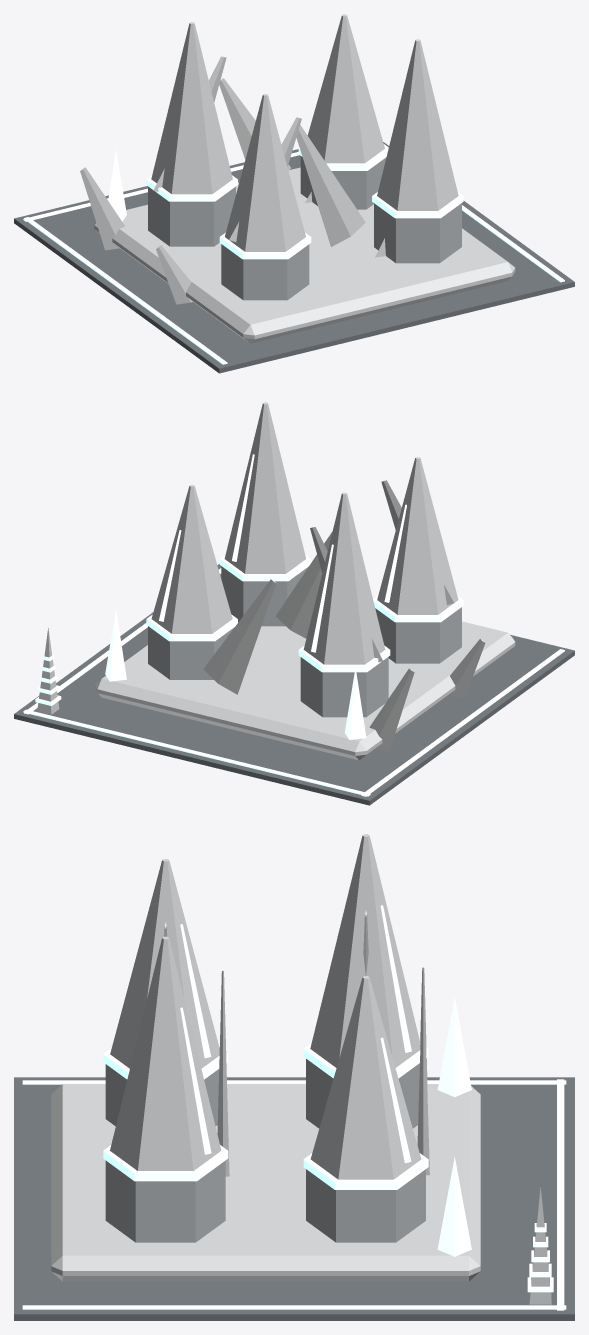
The model's file is zone_low_4_t5.glb.
3 renders of one model, top to bottom at view 1: azimuth 30°, elevation 25°; view 2: azimuth 150°, elevation 25°; view 3: azimuth 270°, elevation 25°, orthographic. The views are drawn at different scales.
Parts seen in each view (by area): view 1: zone_low_4_t5, detail; view 2: zone_low_4_t5, detail; view 3: zone_low_4_t5, detail.
Boxes of the visible parts, x1,y1,x2,y2 form: zone_low_4_t5: (14, 14, 574, 373); detail: (23, 152, 564, 364); zone_low_4_t5: (14, 402, 574, 805); detail: (23, 568, 564, 796); zone_low_4_t5: (14, 834, 574, 1320); detail: (22, 1079, 566, 1310).
Bounding box in the file's own units: 19.6 × 14.79 × 19.6.
